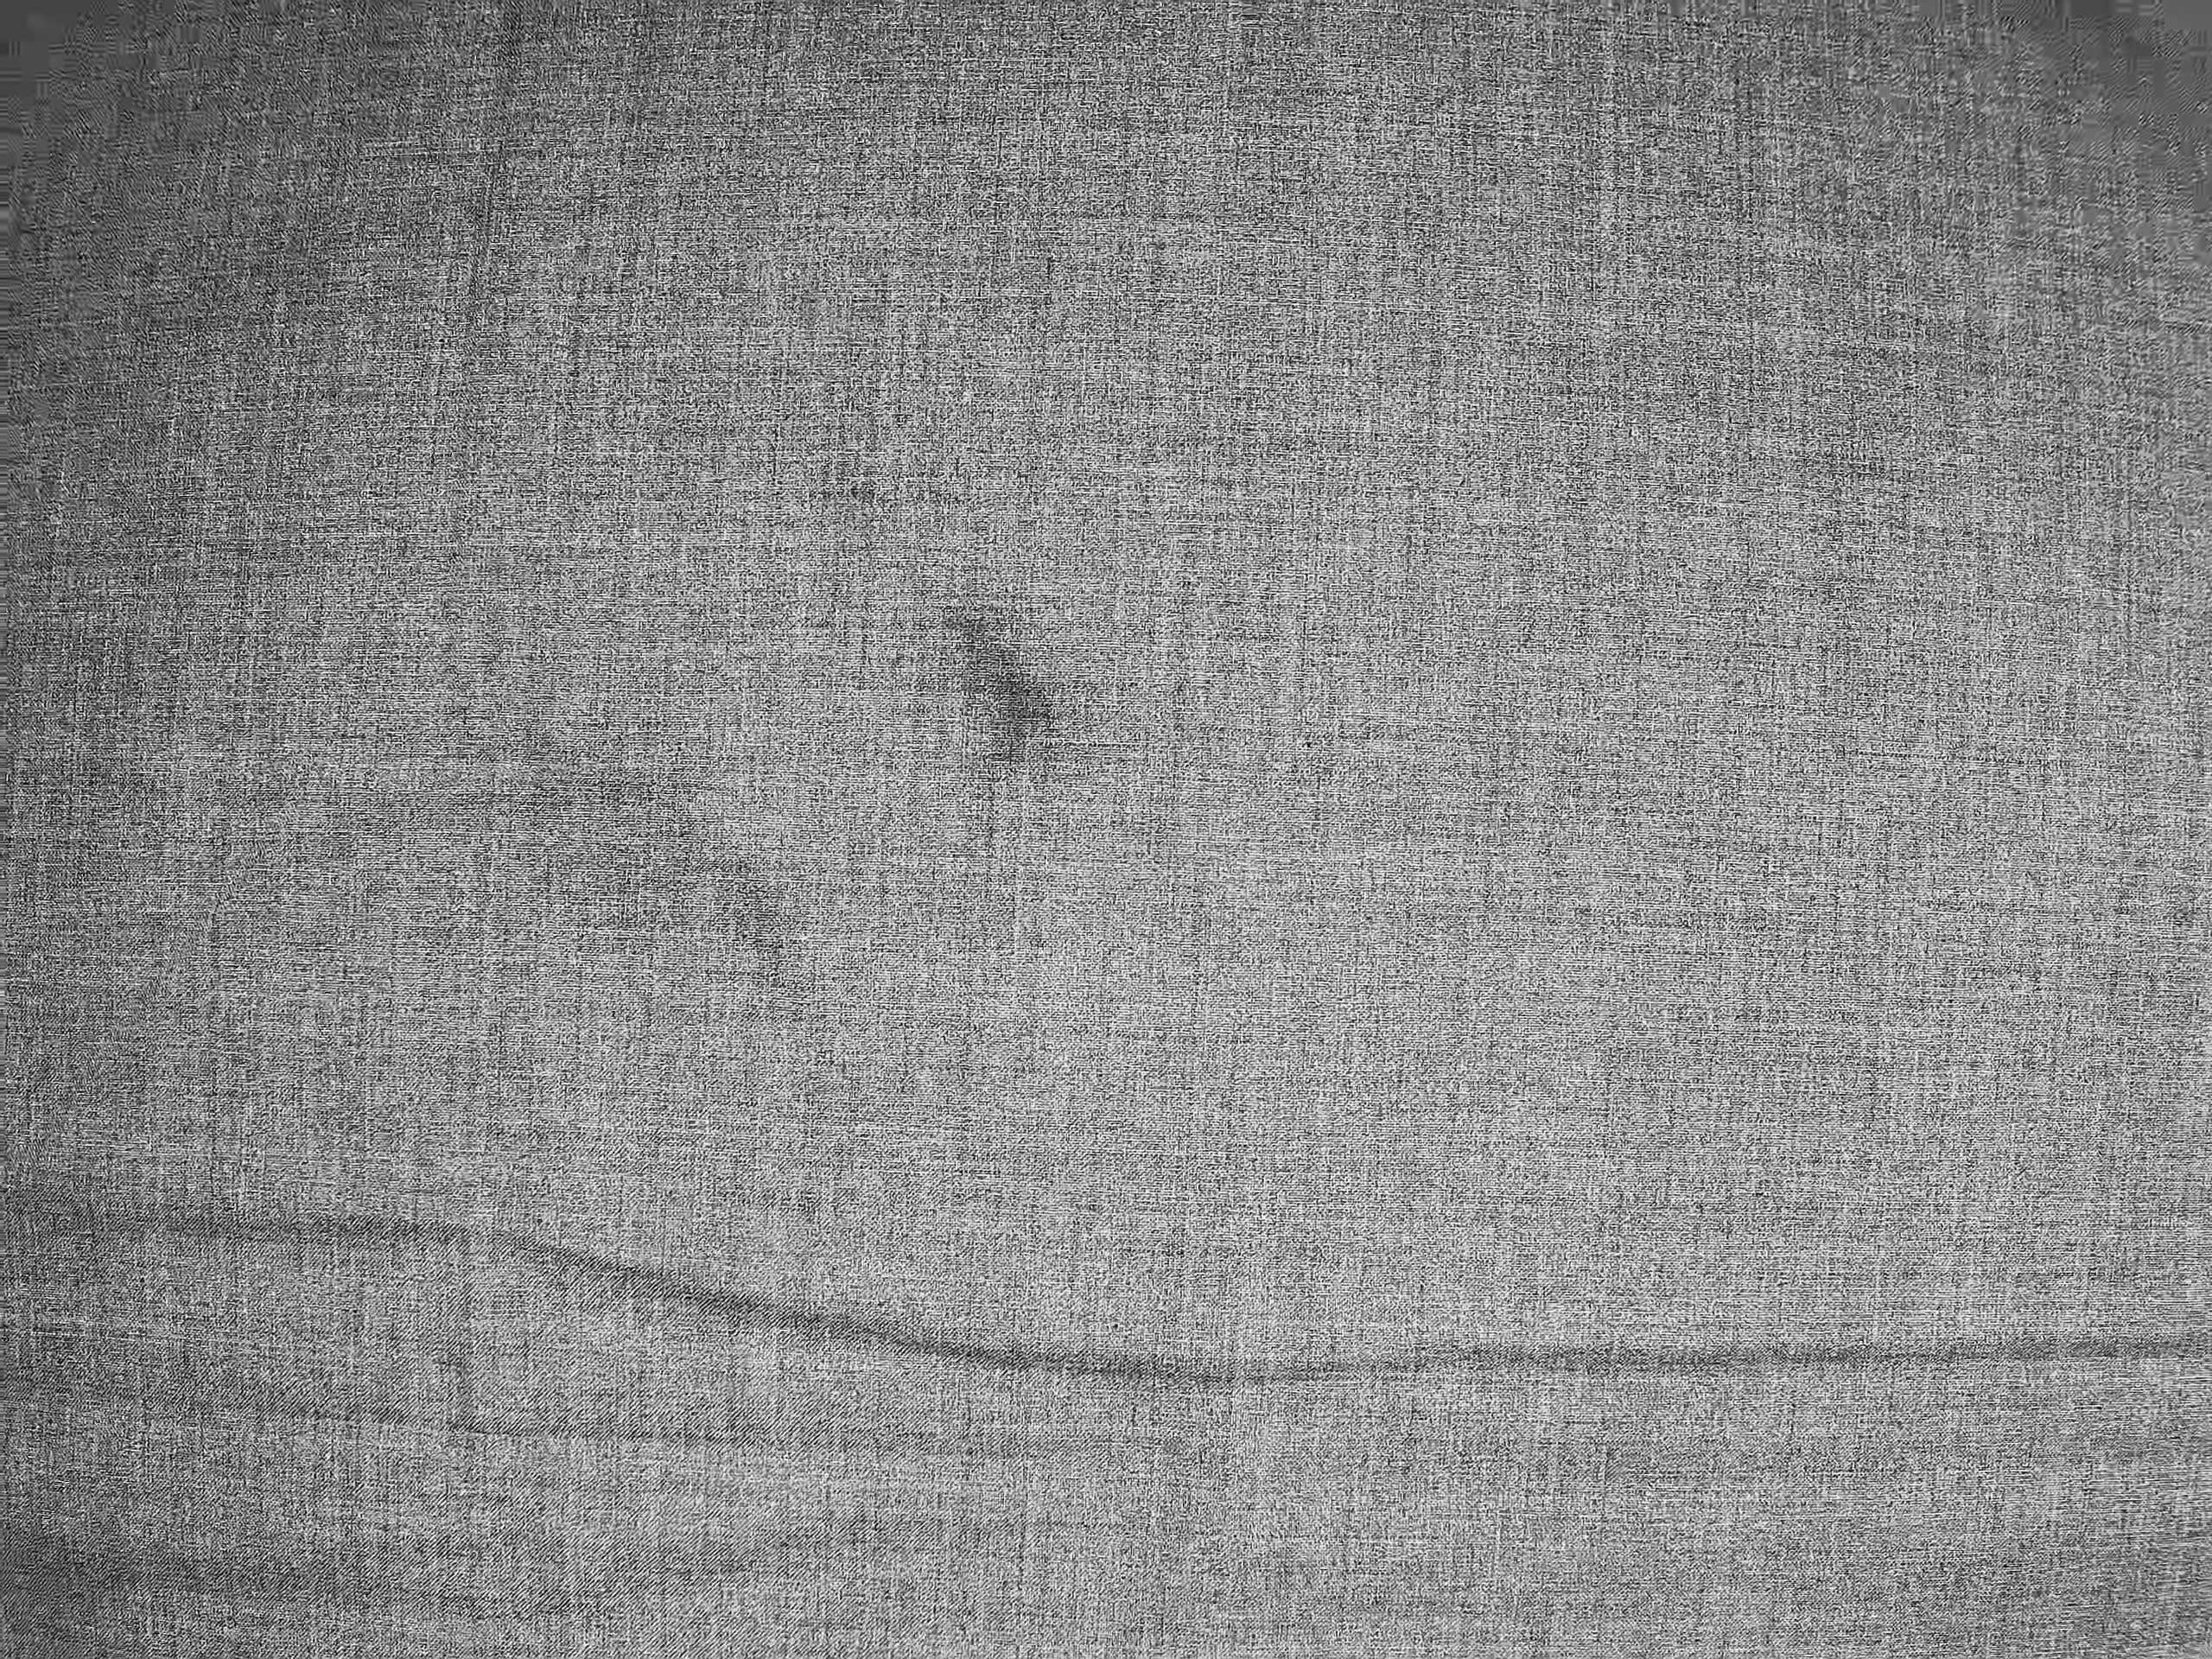stains: (445, 741, 824, 1050), (925, 577, 1082, 784)
